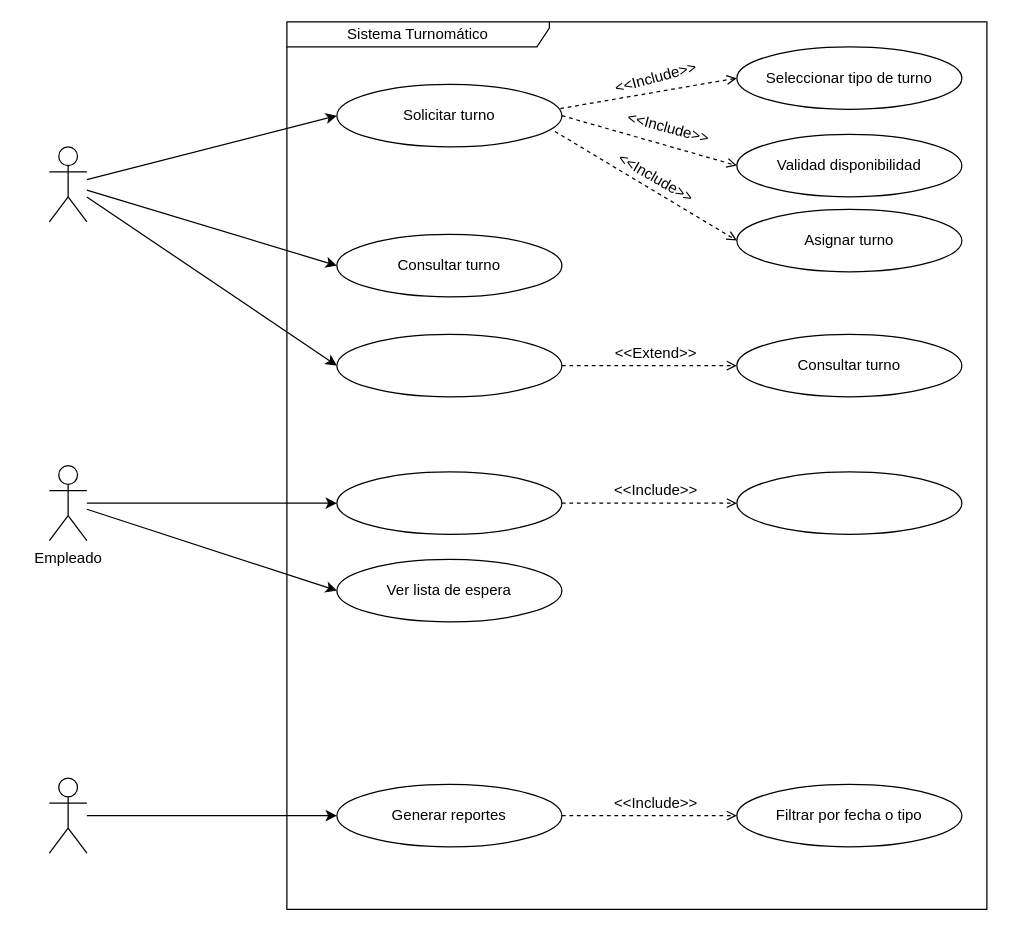
Some shapes in this 1009 by 931 pixel diagram are drawn without their labels. Here are the shapes that lost their labels. From the top down, the box of each, then its label:
(48, 146, 87, 222): Cliente
(336, 333, 562, 397): Cancelar turno
(336, 471, 562, 534): Llamar al siguiente turno
(736, 471, 962, 534): Actualizar estado del turno
(48, 777, 87, 853): Administrador
